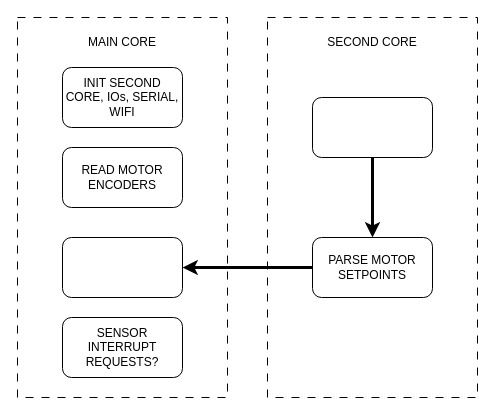
This 495x415 diagram has some shape labels left out. The centre of each missing label's shape, as x and y in pixels:
"READ SERIAL" goes at pixel 372 127.
"SET MOTOR SETPOINTS" goes at pixel 122 267.
